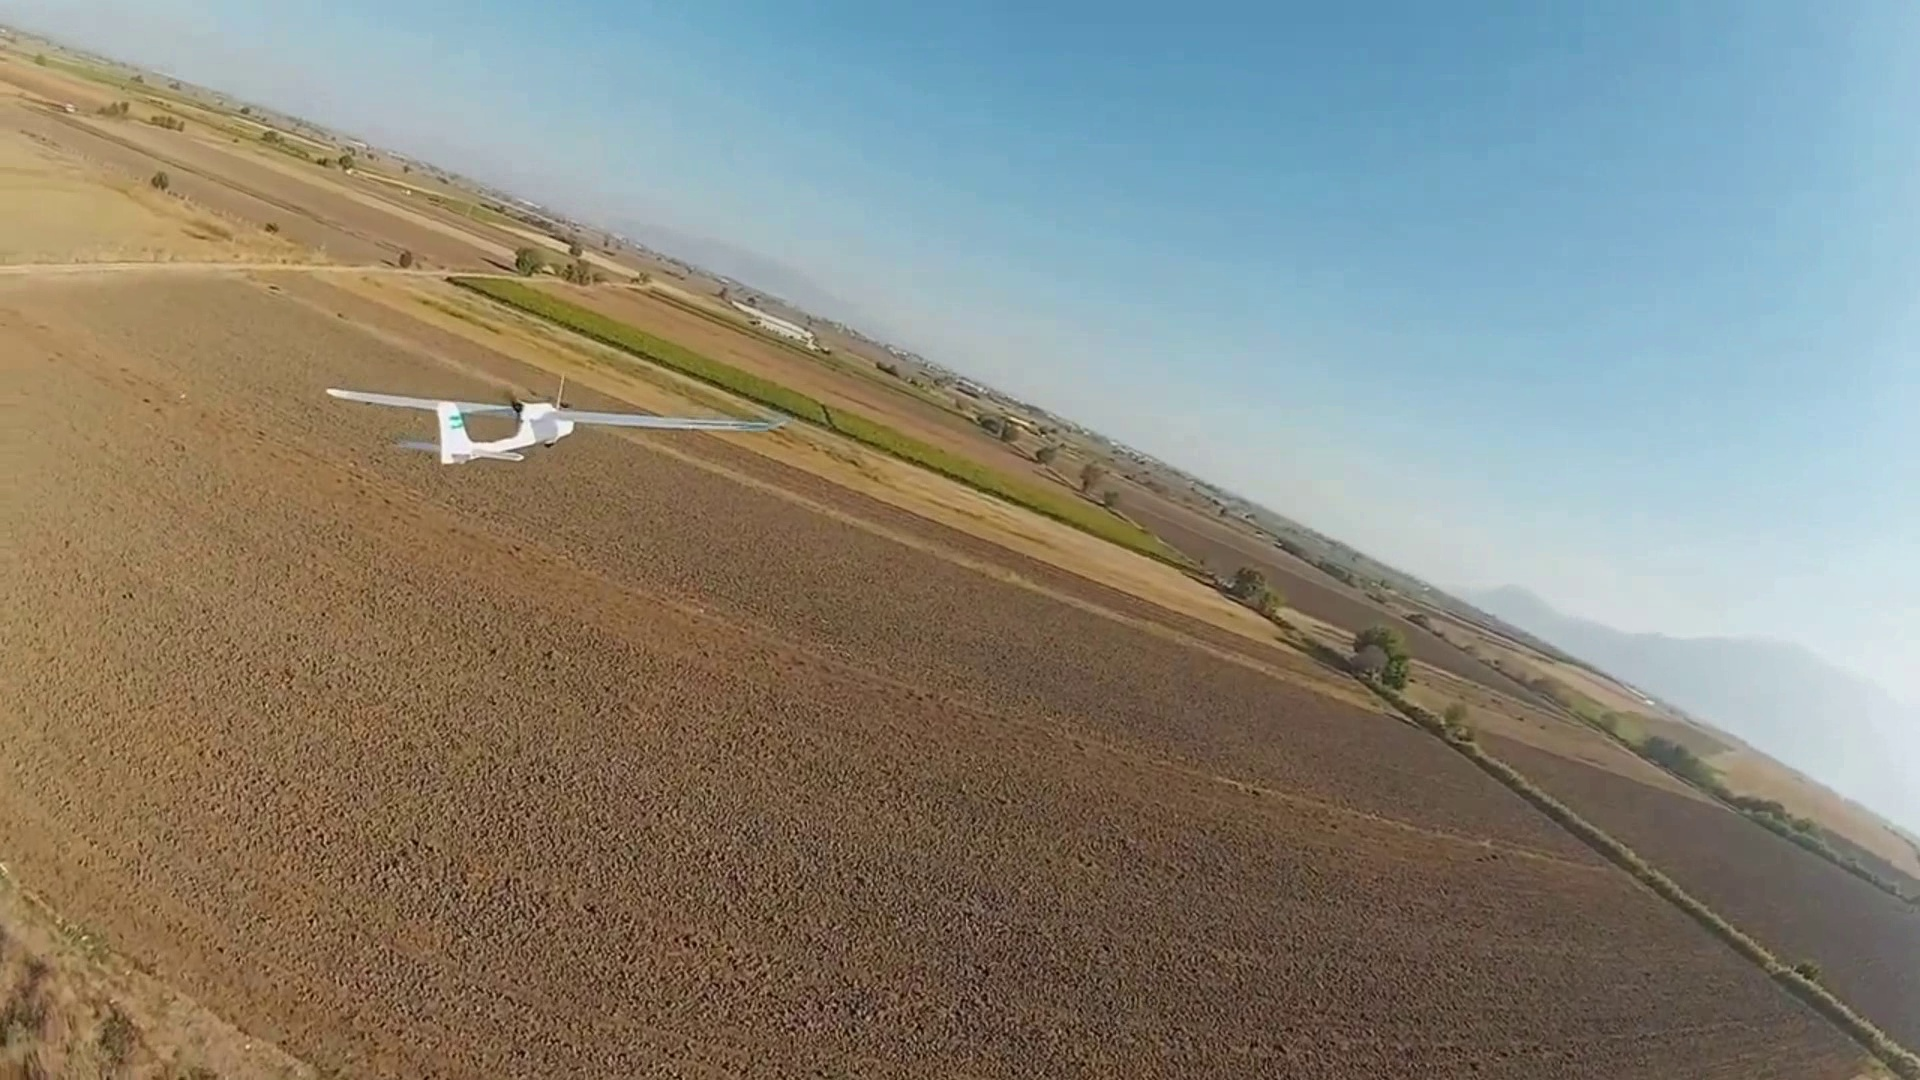airplane: (323, 387, 575, 464)
